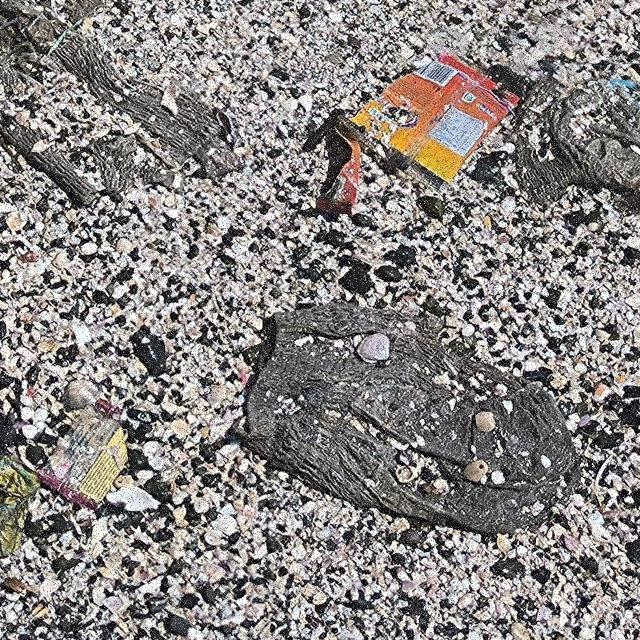plastic_waste: (333, 54, 523, 192), (35, 399, 129, 511)
